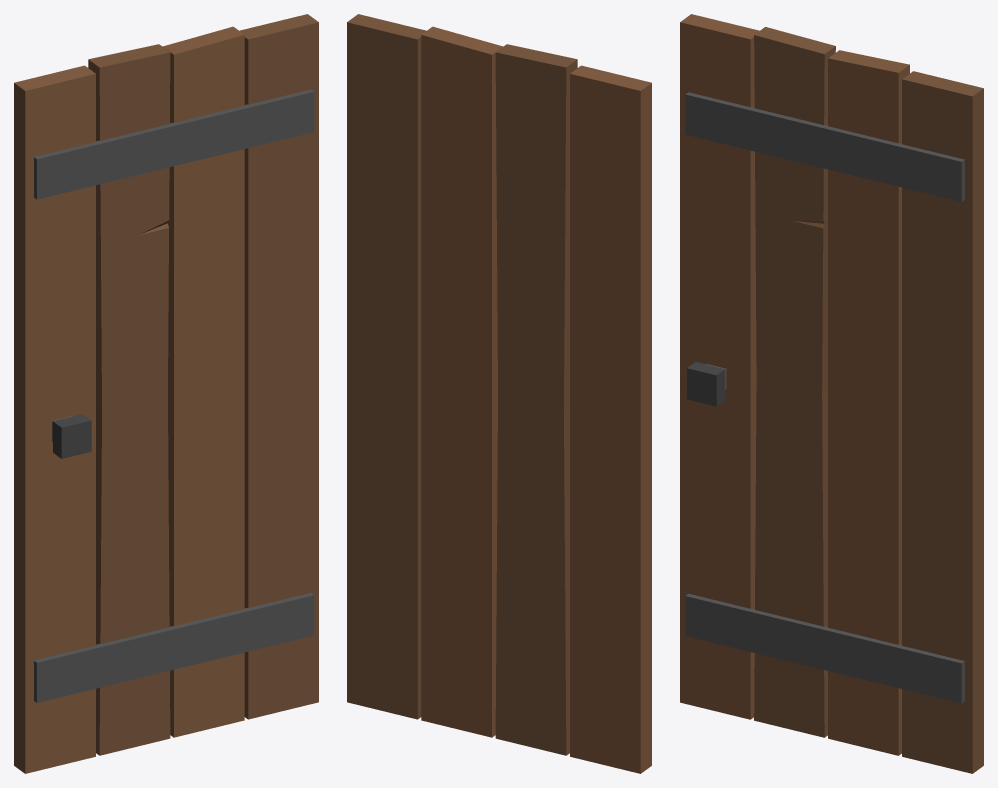
The model's file is Mesh_Buildings_Door_01.FBX.
3 renders of one model, left to right at view 1: azimuth 30°, elevation 25°; view 2: azimuth 150°, elevation 25°; view 3: azimuth 330°, elevation 25°, orthographic.
Parts seen in each view (by area): view 1: Mesh_Buildings_Door_01; view 2: Mesh_Buildings_Door_01; view 3: Mesh_Buildings_Door_01.
Boxes of the visible parts, left/top/right/bottom form: Mesh_Buildings_Door_01: left=14, top=14, right=318, bottom=773; Mesh_Buildings_Door_01: left=347, top=14, right=651, bottom=773; Mesh_Buildings_Door_01: left=680, top=14, right=983, bottom=773.
Size of the model in its own units: 90 by 202 by 13.86.
